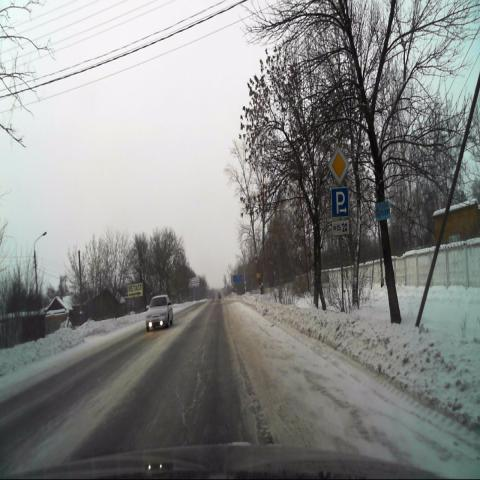8_8: (332, 221, 349, 235)
